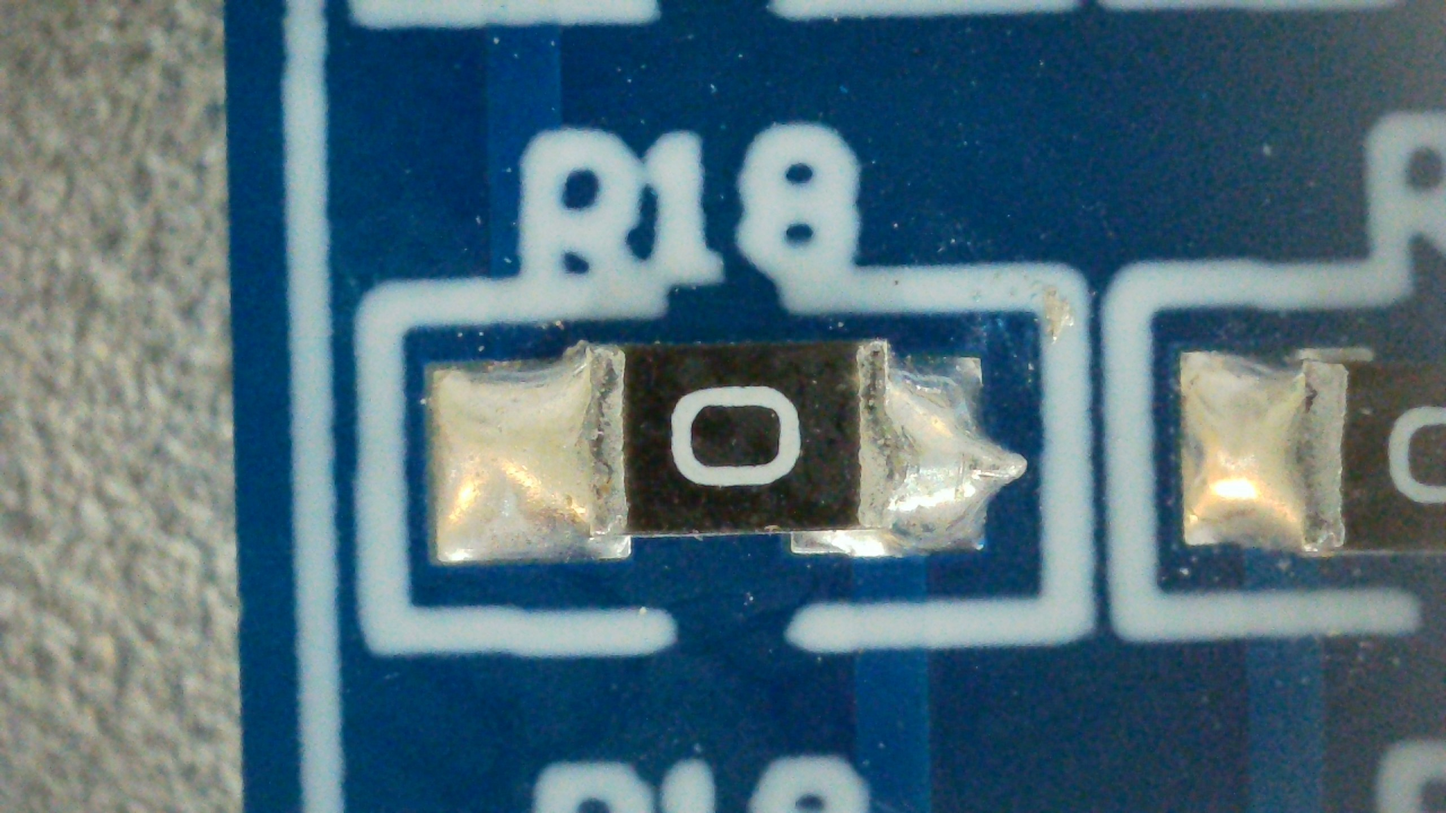NG: (429, 339, 1027, 564)
